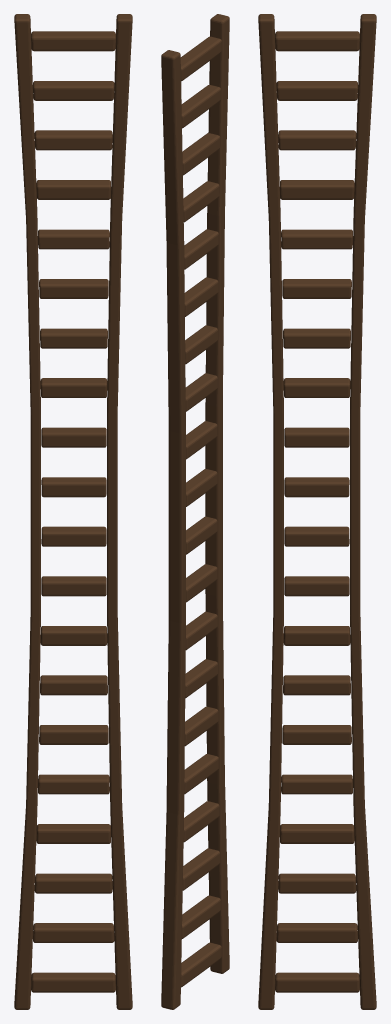
Rendered from Ladder_V2.fbx.
3 renders of one model, left to right at view 1: azimuth 90°, elevation 25°; view 2: azimuth 150°, elevation 25°; view 3: azimuth 270°, elevation 25°, orthographic. The views are drawn at different scales.
Visible parts, largest first — view 1: Cube.036; view 2: Cube.036; view 3: Cube.036.
Part boxes in pixels (x1,y1,x2,y2): Cube.036: [14, 14, 132, 1009]; Cube.036: [161, 14, 229, 1009]; Cube.036: [258, 14, 376, 1009].
Size of the model in its own units: 6 by 400 by 43.25.
